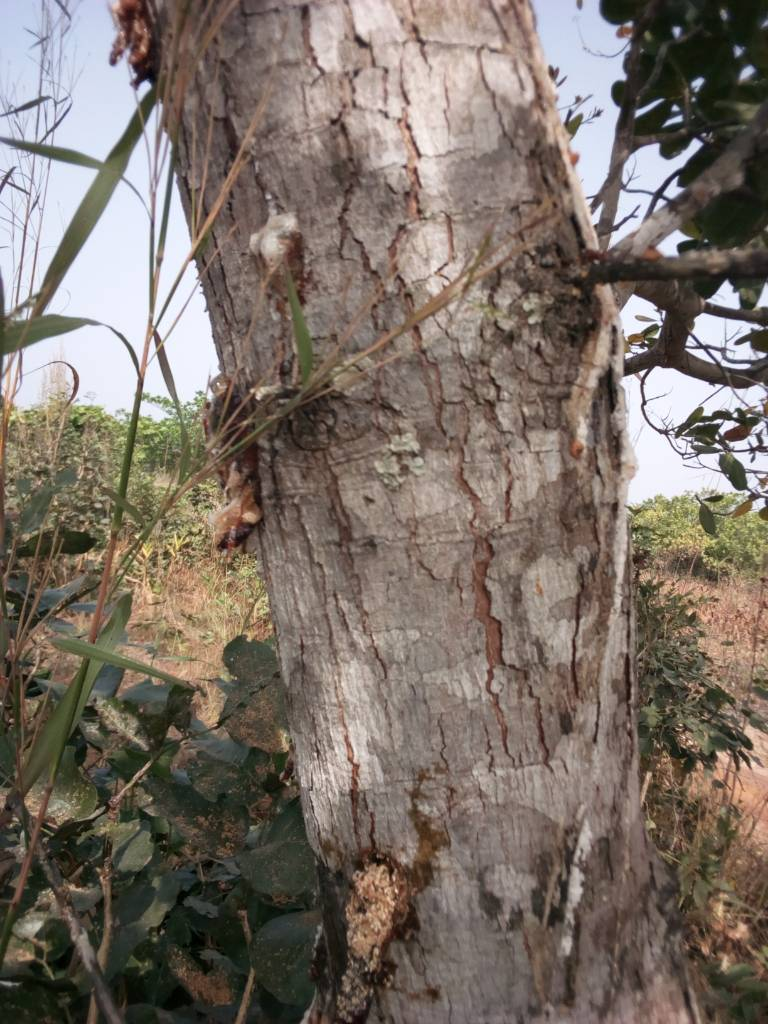Apate terebrans: (202, 813, 557, 1021), (130, 142, 369, 366)
